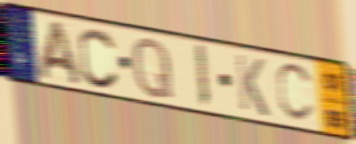A: (36, 18, 84, 88)
C: (77, 25, 121, 91), (275, 62, 316, 125)
I: (193, 42, 212, 111)
K: (234, 51, 271, 120)
Q: (131, 35, 176, 101)
